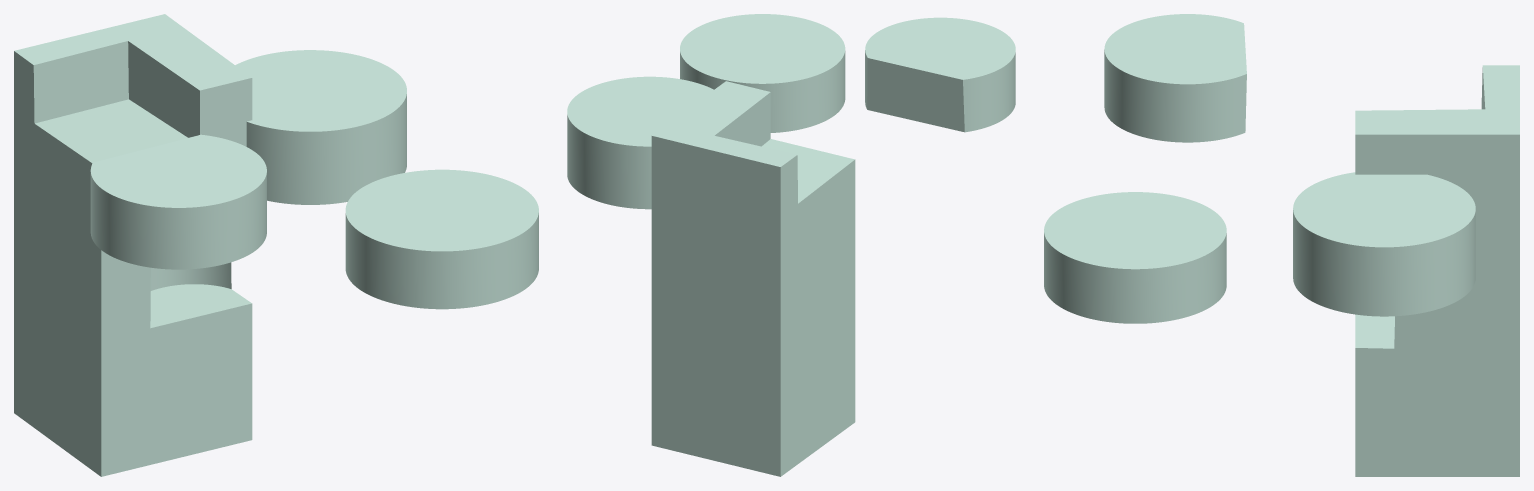
The picture shows the model from 3 angles, left to right: view 1: azimuth 30°, elevation 25°; view 2: azimuth 150°, elevation 25°; view 3: azimuth 270°, elevation 25°; orthographic projection. The views are drawn at different scales.
Visible parts, largest first — view 1: Renderer Node; view 2: Renderer Node; view 3: Renderer Node.
Boxes of the visible parts, bbox=[...] form: Renderer Node: bbox=[14, 14, 538, 476]; Renderer Node: bbox=[567, 14, 1015, 476]; Renderer Node: bbox=[1044, 14, 1519, 476].
Bounding box in the file's own units: 0.8394 × 0.7578 × 0.9256.
